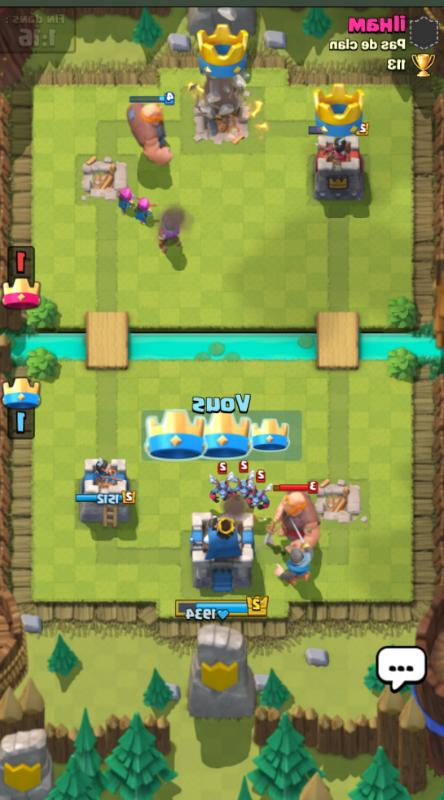archere: (131, 195, 158, 223), (113, 184, 138, 214)
chevalier: (276, 518, 317, 589)
gargouille: (206, 469, 236, 502), (248, 476, 271, 509), (233, 471, 255, 497)
geant: (124, 98, 177, 168), (272, 487, 319, 556)
mousquetaire: (152, 208, 185, 256)
